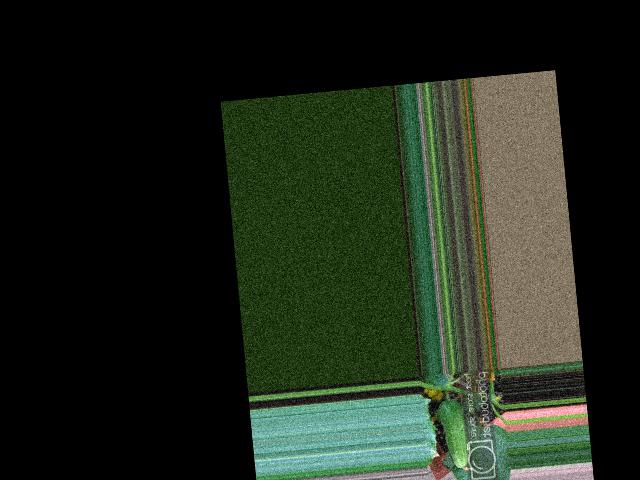cucumber: (438, 399, 472, 470)
